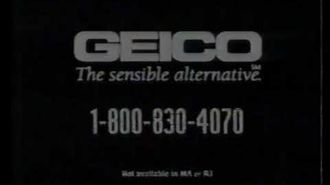Geico: (74, 26, 263, 63)
